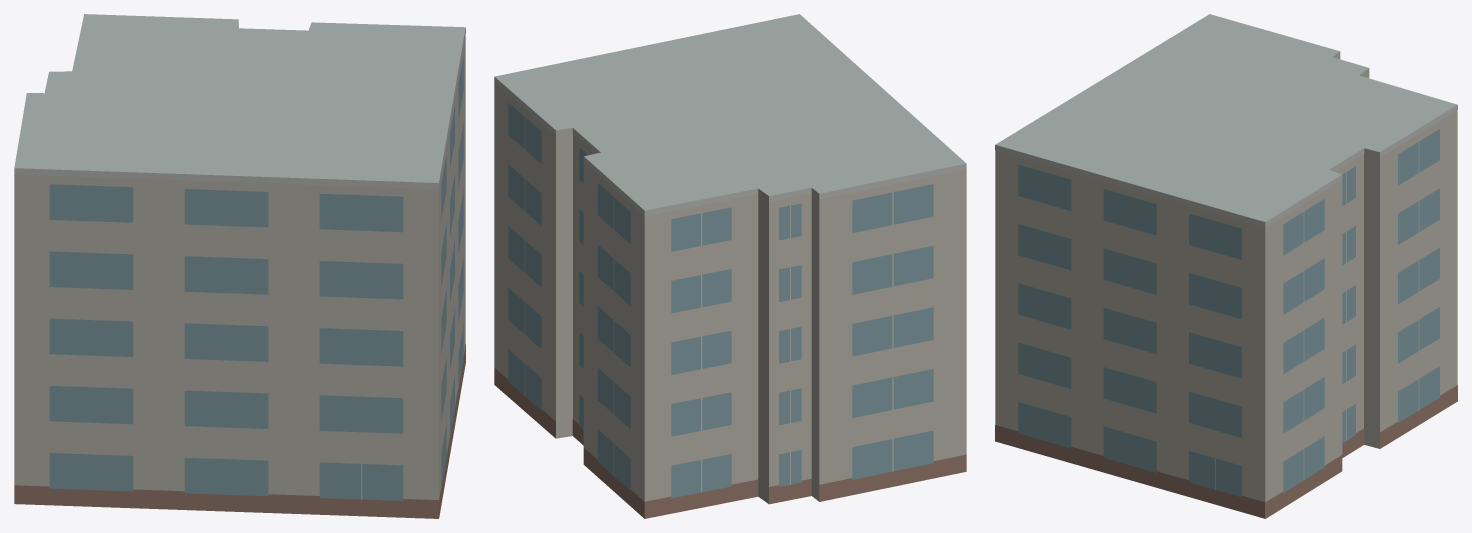
File: survey-upis-32834758.glb
3 renders of one model, left to right at view 1: azimuth 30°, elevation 25°; view 2: azimuth 150°, elevation 25°; view 3: azimuth 270°, elevation 25°, orthographic. The views are drawn at different scales.
Visible parts, largest first — view 1: survey-upis-32834758.tmp; view 2: survey-upis-32834758.tmp; view 3: survey-upis-32834758.tmp.
Part boxes in pixels (x1,y1,x2,y2): survey-upis-32834758.tmp: (14, 14, 465, 518); survey-upis-32834758.tmp: (494, 14, 966, 518); survey-upis-32834758.tmp: (995, 14, 1457, 518).
Bounding box in the file's own units: 19.95 × 13.25 × 18.73.
